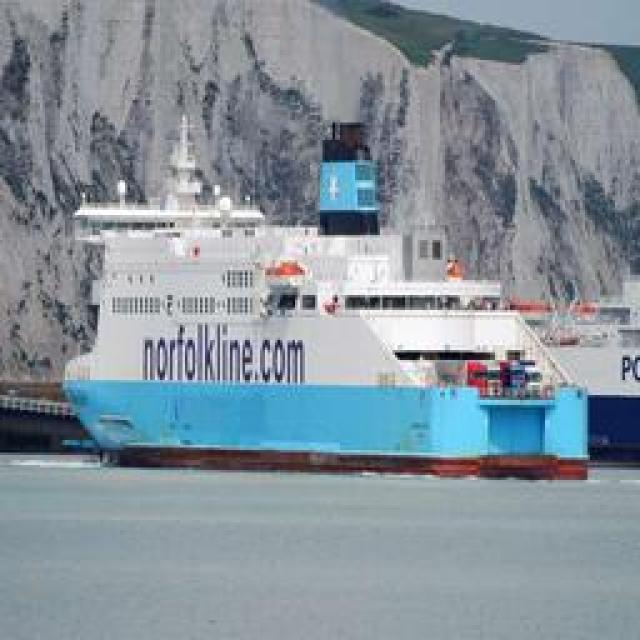Ship: (76, 200, 599, 465)
